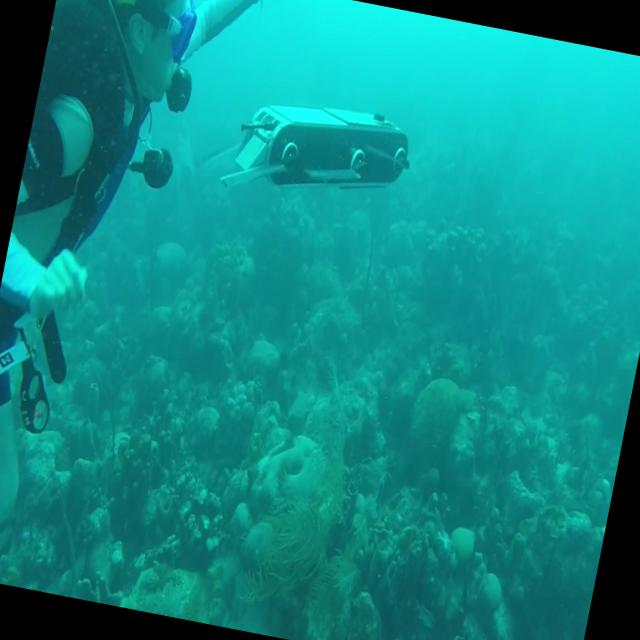human: (0, 0, 315, 577)
